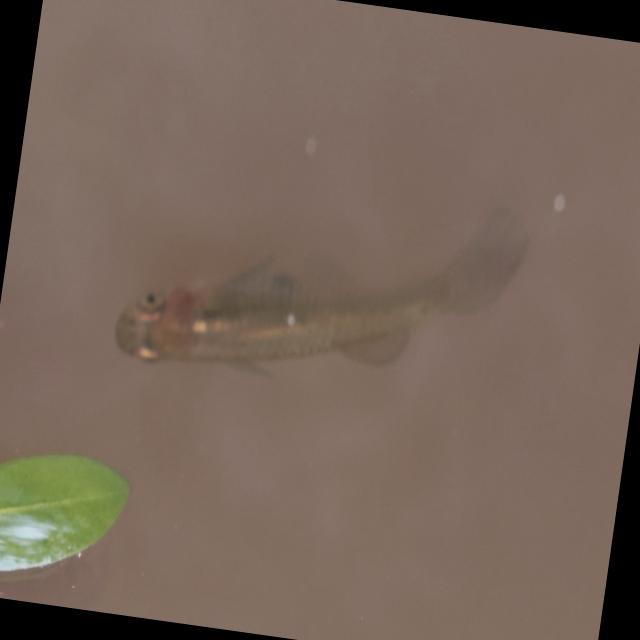Sivrisinek Baligi: (108, 179, 538, 433)
